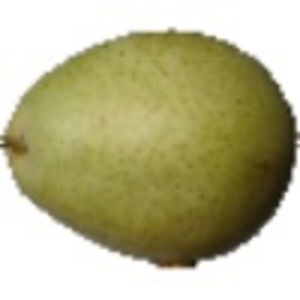pera: (1, 28, 300, 272)
